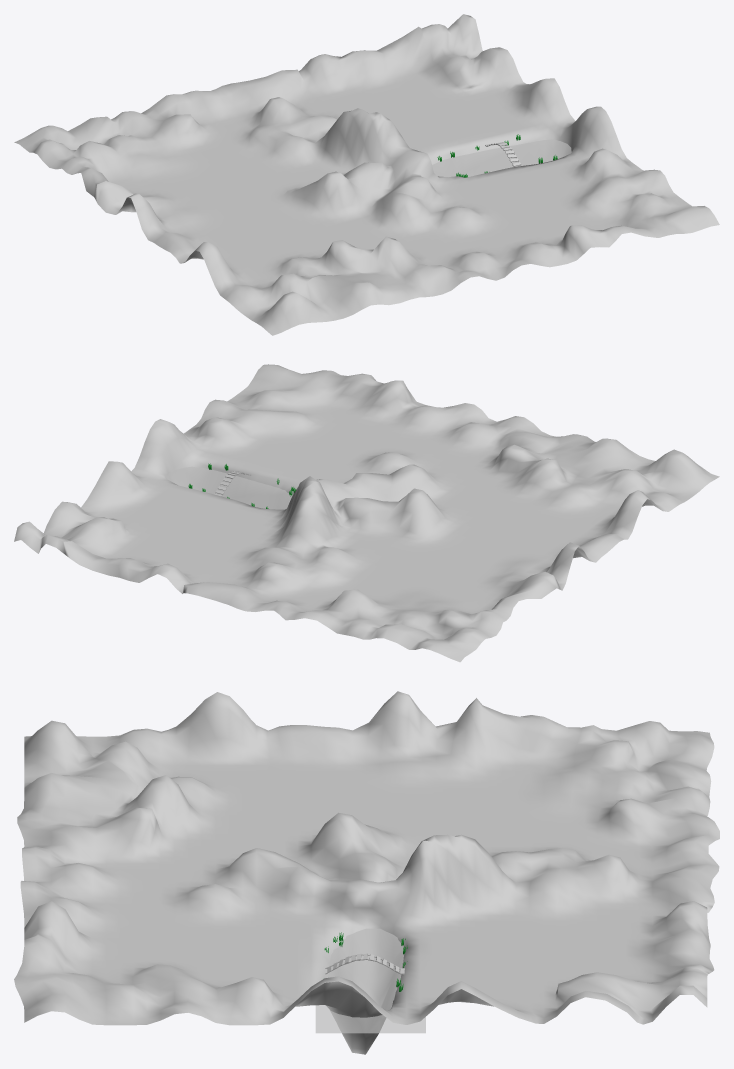
File: testscene.fbx
The picture shows the model from 3 angles, top to bottom: view 1: azimuth 30°, elevation 25°; view 2: azimuth 150°, elevation 25°; view 3: azimuth 270°, elevation 25°; orthographic projection. The views are drawn at different scales.
Visible parts, largest first — view 1: pPlane1, pPlane2; view 2: pPlane1, pPlane2; view 3: pPlane1, pPlane2.
Part boxes in pixels (box(x1,y1,x2,y2)): pPlane1: box(14, 14, 719, 335); pPlane2: box(432, 139, 571, 176); pPlane1: box(14, 364, 719, 662); pPlane2: box(166, 466, 292, 509); pPlane1: box(14, 691, 719, 1054); pPlane2: box(315, 928, 425, 1033).
Size of the model in its own units: 15.37 by 3.2 by 15.5.
